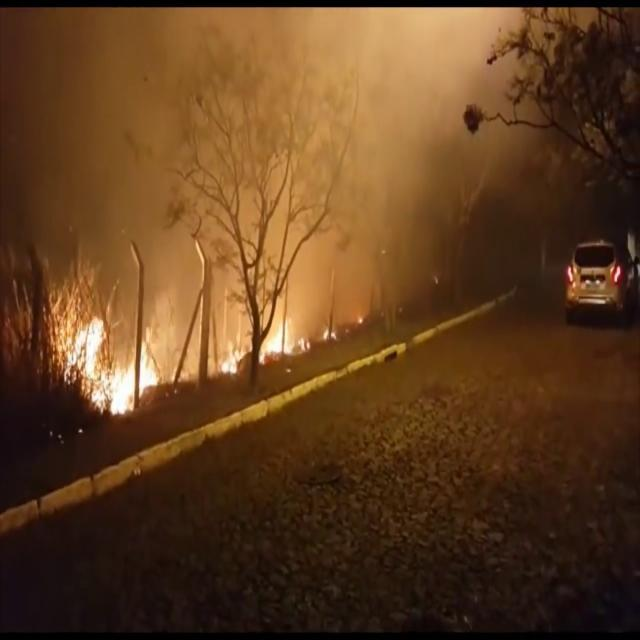Fire: (71, 318, 158, 418), (260, 311, 312, 364), (222, 336, 248, 374), (323, 330, 337, 340)
